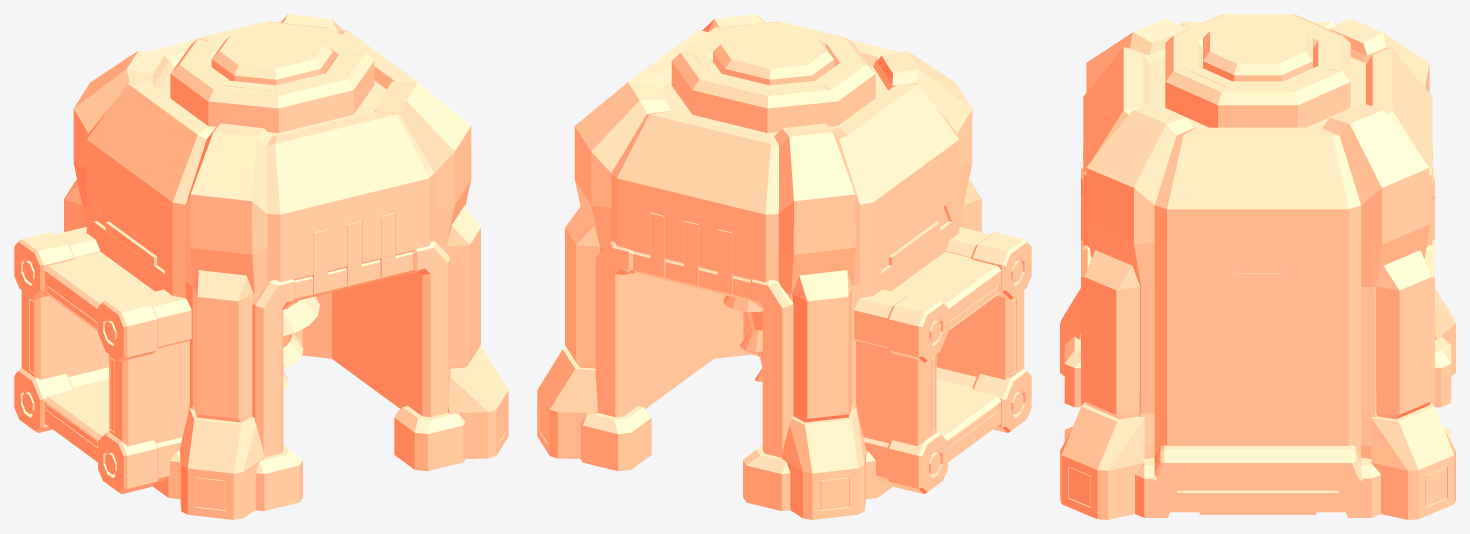
The model's file is miner.glb.
3 renders of one model, left to right at view 1: azimuth 30°, elevation 25°; view 2: azimuth 150°, elevation 25°; view 3: azimuth 270°, elevation 25°, orthographic. The views are drawn at different scales.
Visible parts, largest first — view 1: Body, Port, Base, Head, Light, Drill; view 2: Body, Port, Base, Head, Light, Drill; view 3: Body, Base, Head, Light.
Part boxes in pixels (left/top/right/bottom): Body: left=64, top=14, right=480, bottom=422; Port: left=14, top=217, right=191, bottom=494; Base: left=152, top=241, right=508, bottom=519; Head: left=158, top=21, right=386, bottom=136; Light: left=30, top=22, right=505, bottom=509; Drill: left=283, top=296, right=319, bottom=390; Body: left=565, top=14, right=981, bottom=422; Port: left=854, top=217, right=1031, bottom=494; Base: left=537, top=241, right=893, bottom=519; Head: left=659, top=21, right=887, bottom=136; Light: left=540, top=22, right=1015, bottom=509; Drill: left=723, top=295, right=762, bottom=381; Body: left=1083, top=18, right=1432, bottom=458; Base: left=1060, top=167, right=1455, bottom=519; Head: left=1150, top=14, right=1365, bottom=127; Light: left=1069, top=15, right=1446, bottom=506.
Size of the model in its own units: 0.9067 by 0.8837 by 0.8031.
